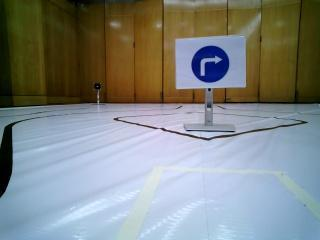right: (176, 38, 245, 87)
